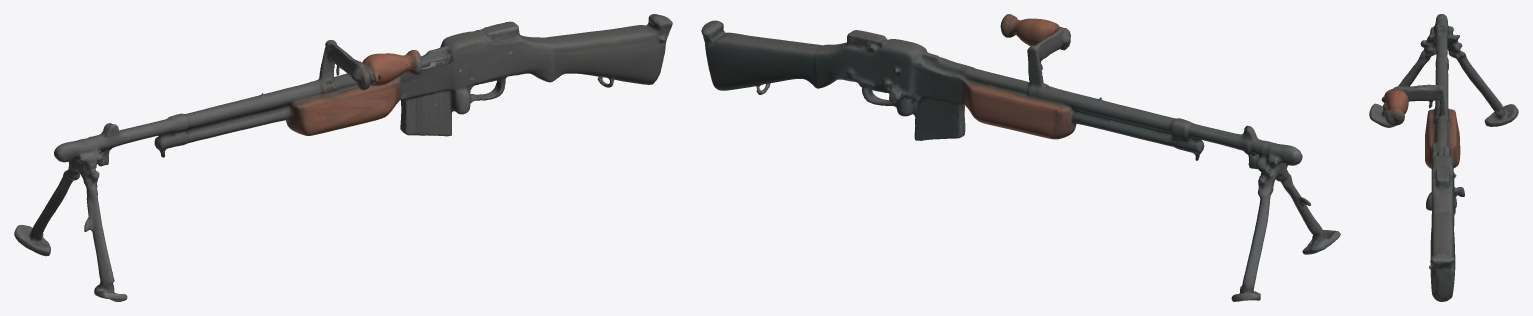
File: browning.glb
The picture shows the model from 3 angles, left to right: view 1: azimuth 30°, elevation 25°; view 2: azimuth 150°, elevation 25°; view 3: azimuth 270°, elevation 25°; orthographic projection. The views are drawn at different scales.
Size of the model in its own units: 2 by 0.5511 by 0.5402.
Materials: 1 (1 with a texture image).
